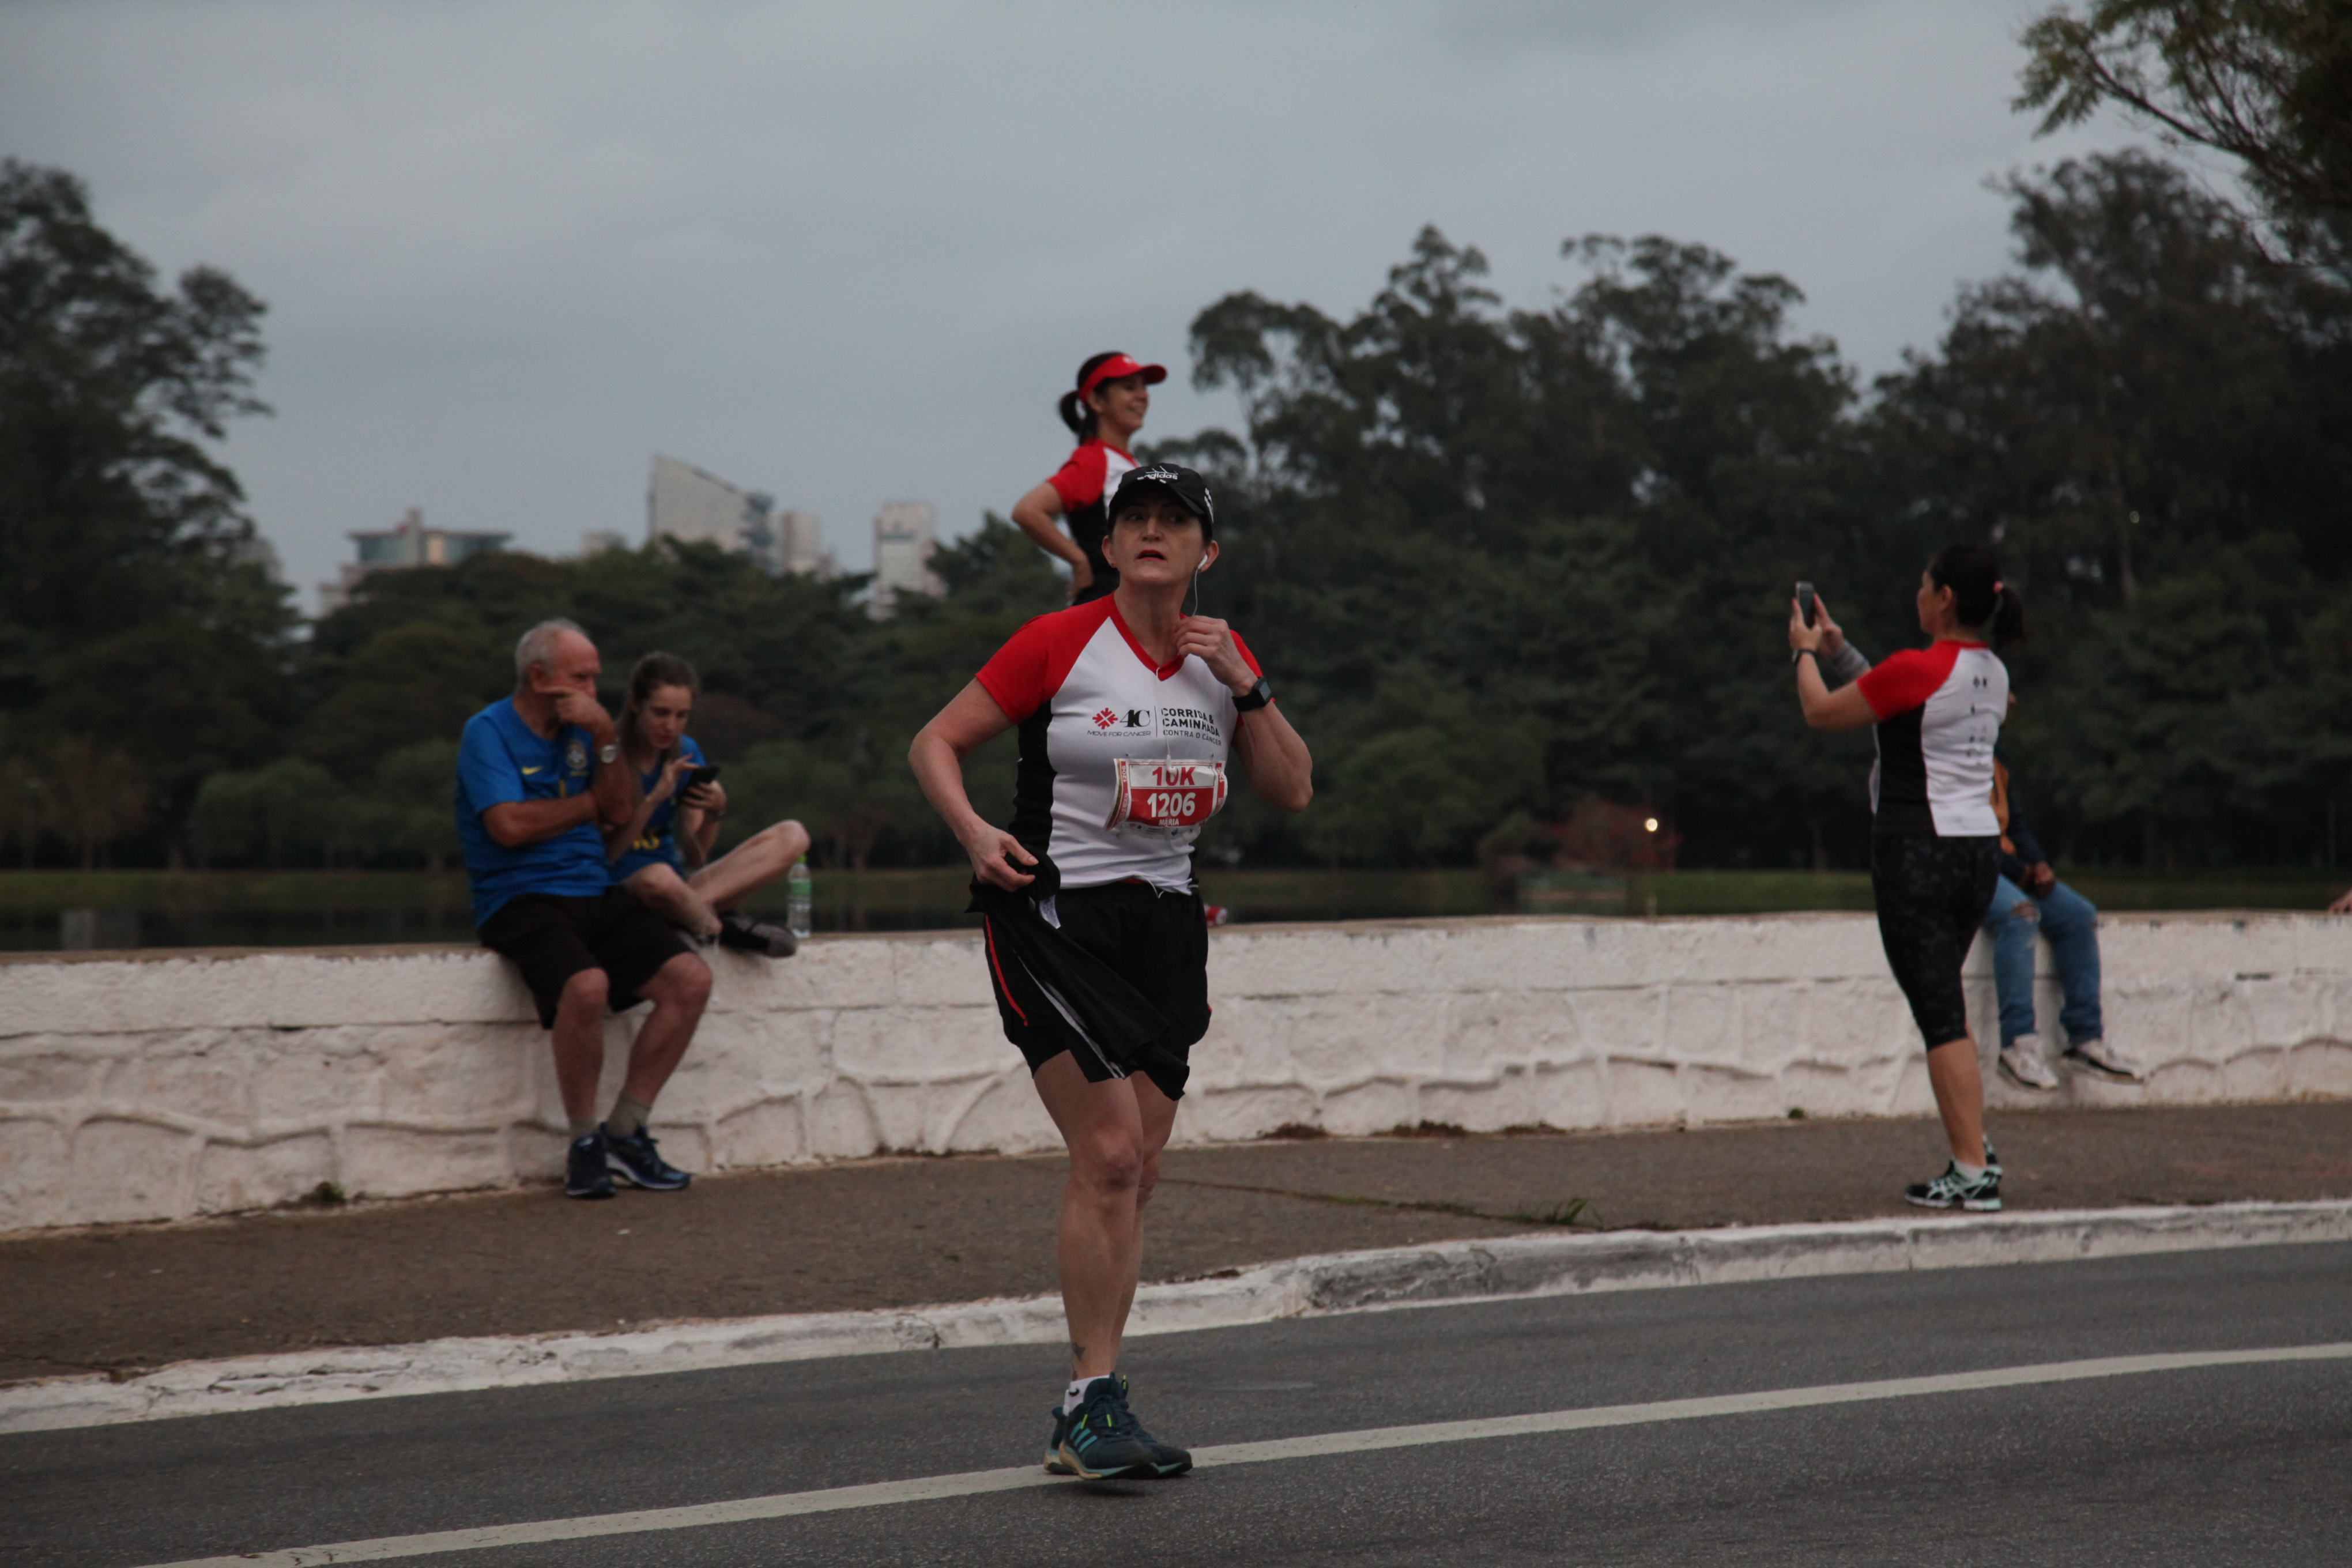bibtag: (1106, 752, 1228, 847)
